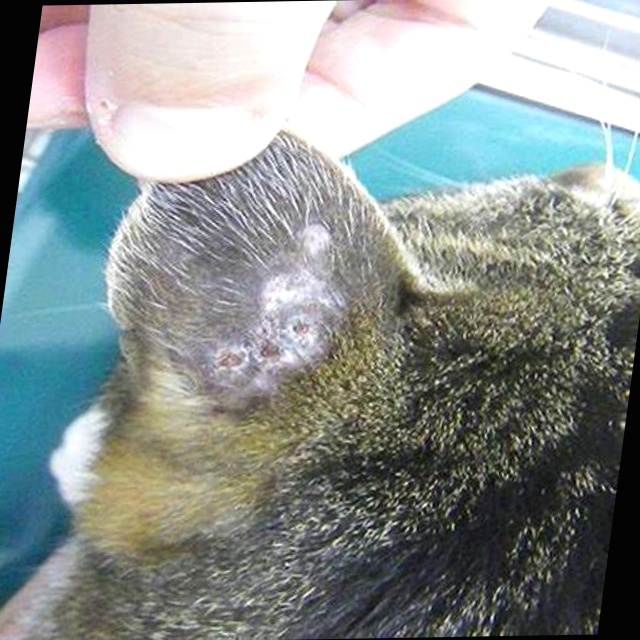ringworm: (208, 225, 355, 395)
